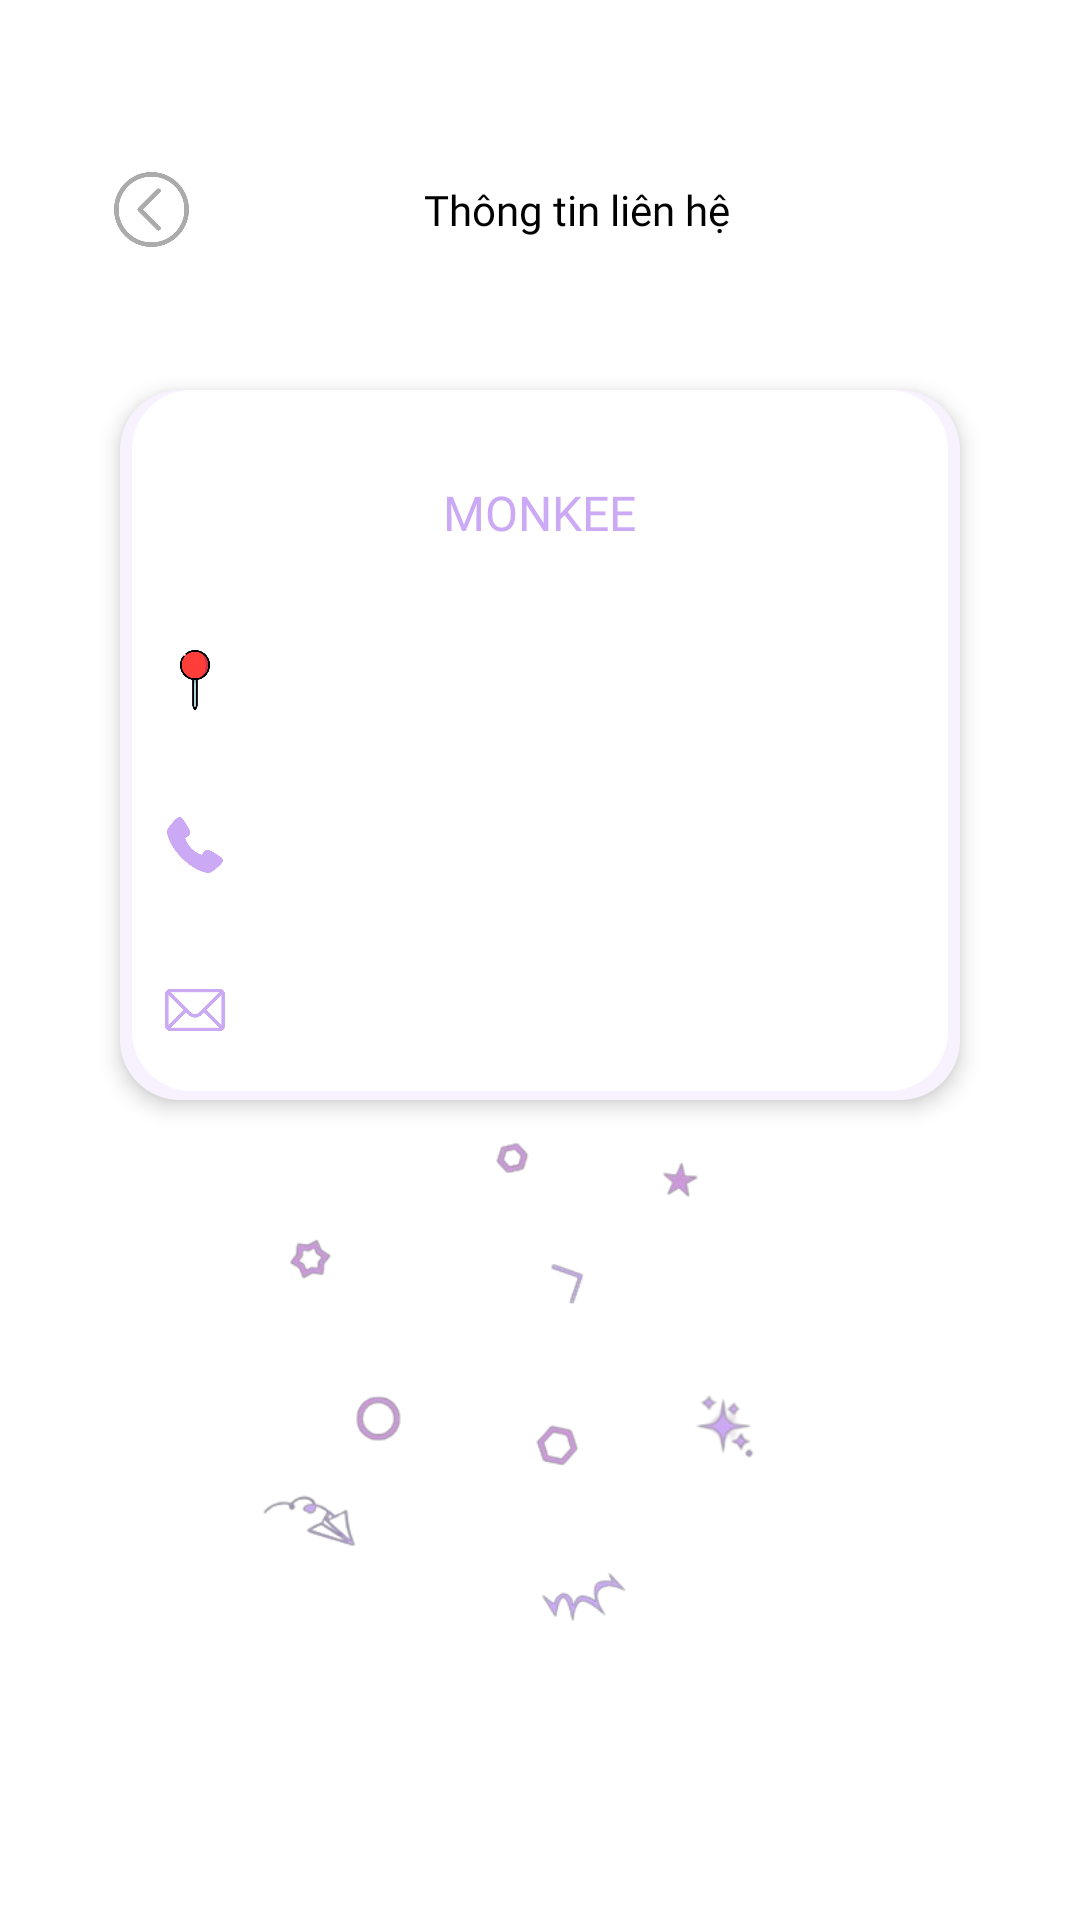

Where icons sit on this 1080w x 1920h app screen, as rect(x1, y1, x2, y2):
qa mail: rect(165, 989, 225, 1031)
qa phone: rect(167, 817, 223, 873)
qa pin: rect(180, 650, 210, 710)
